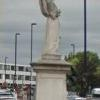Statue: (34, 2, 69, 63)
